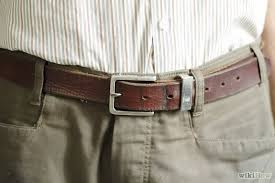F_belt: (1, 45, 274, 120)
